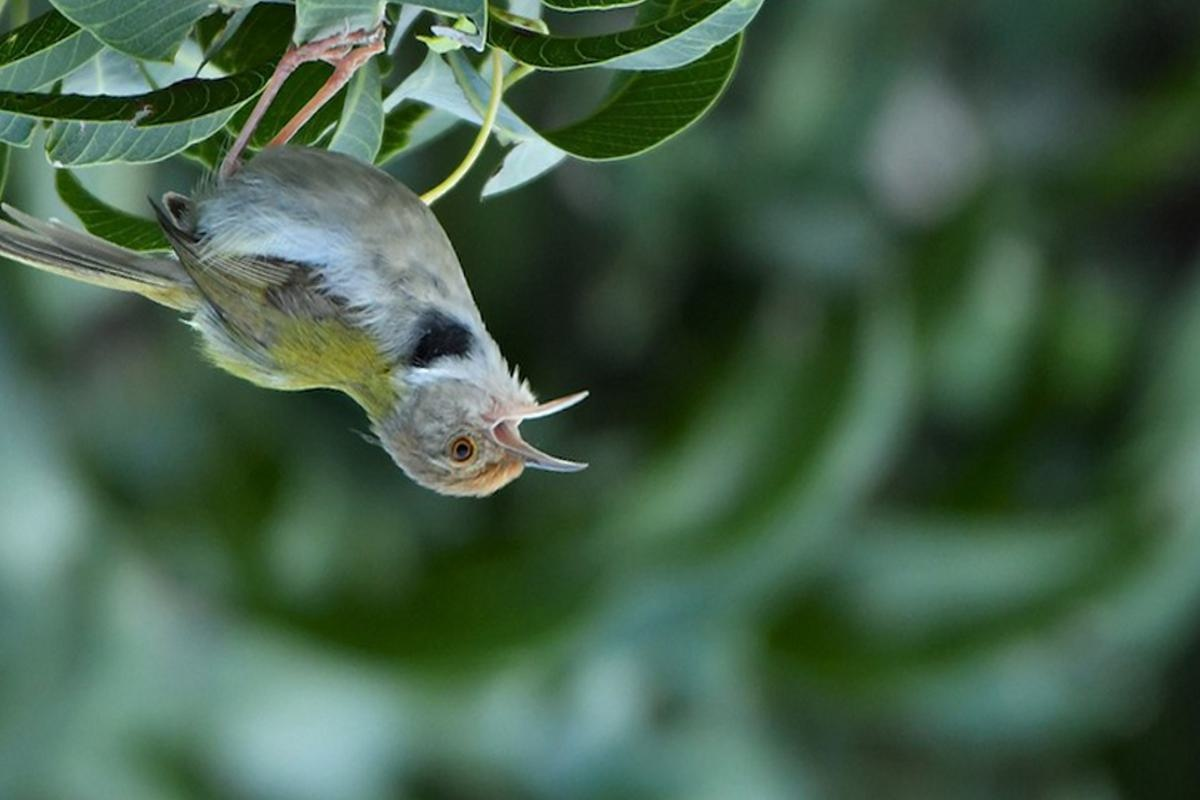tailorbird: (61, 43, 623, 505)
